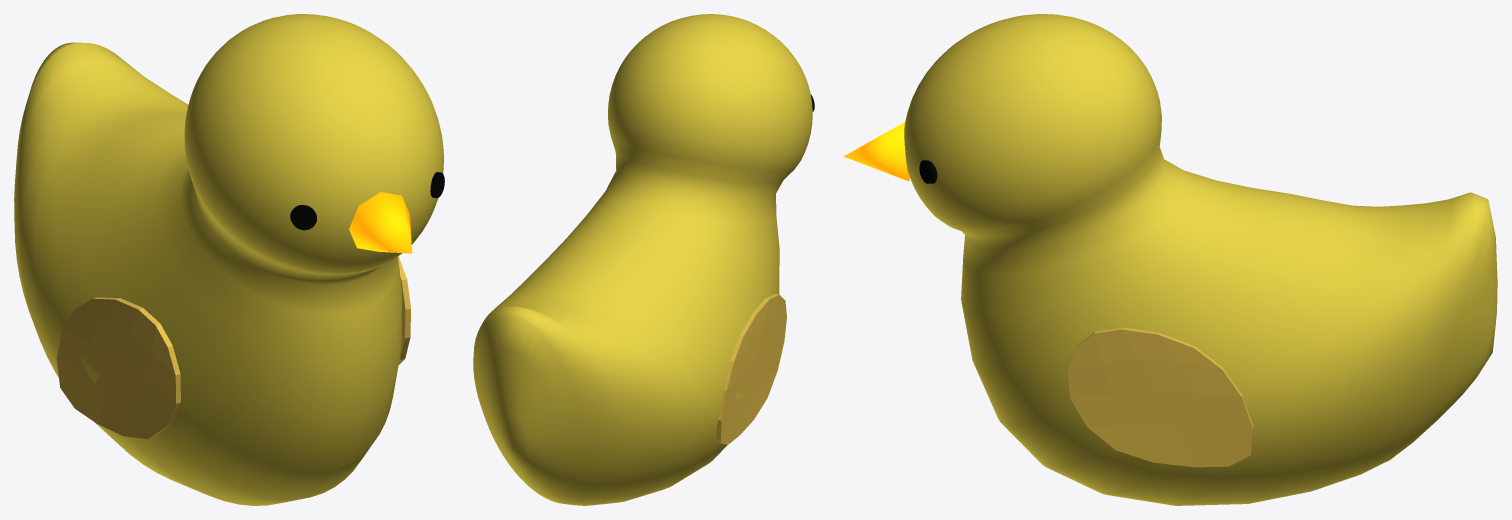
Rendered from DUCK.fbx.
3 views of the same model, side by side, from view 1: azimuth 30°, elevation 25°; view 2: azimuth 150°, elevation 25°; view 3: azimuth 270°, elevation 25° (orthographic). The views are drawn at different scales.
Parts seen in each view (by area): view 1: Sphere, Plane, Cone, Cylinder; view 2: Sphere, Plane; view 3: Sphere, Plane, Cone.
Part boxes in pixels (x1=…): Sphere: x1=14, y1=14, x2=443, y2=505; Plane: x1=56, y1=256, x2=410, y2=439; Cone: x1=349, y1=192, x2=412, y2=253; Cylinder: x1=290, y1=172, x2=444, y2=230; Sphere: x1=473, y1=14, x2=812, y2=505; Plane: x1=716, y1=293, x2=786, y2=444; Sphere: x1=904, y1=14, x2=1497, y2=505; Plane: x1=1067, y1=327, x2=1253, y2=467; Cone: x1=843, y1=122, x2=909, y2=181.
Size of the model in its own units: 168 by 292 by 370.
